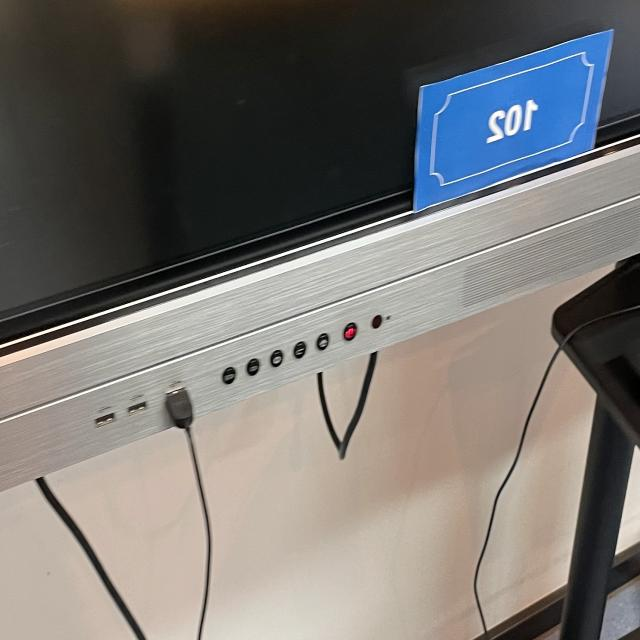Card: (396, 8, 624, 248)
